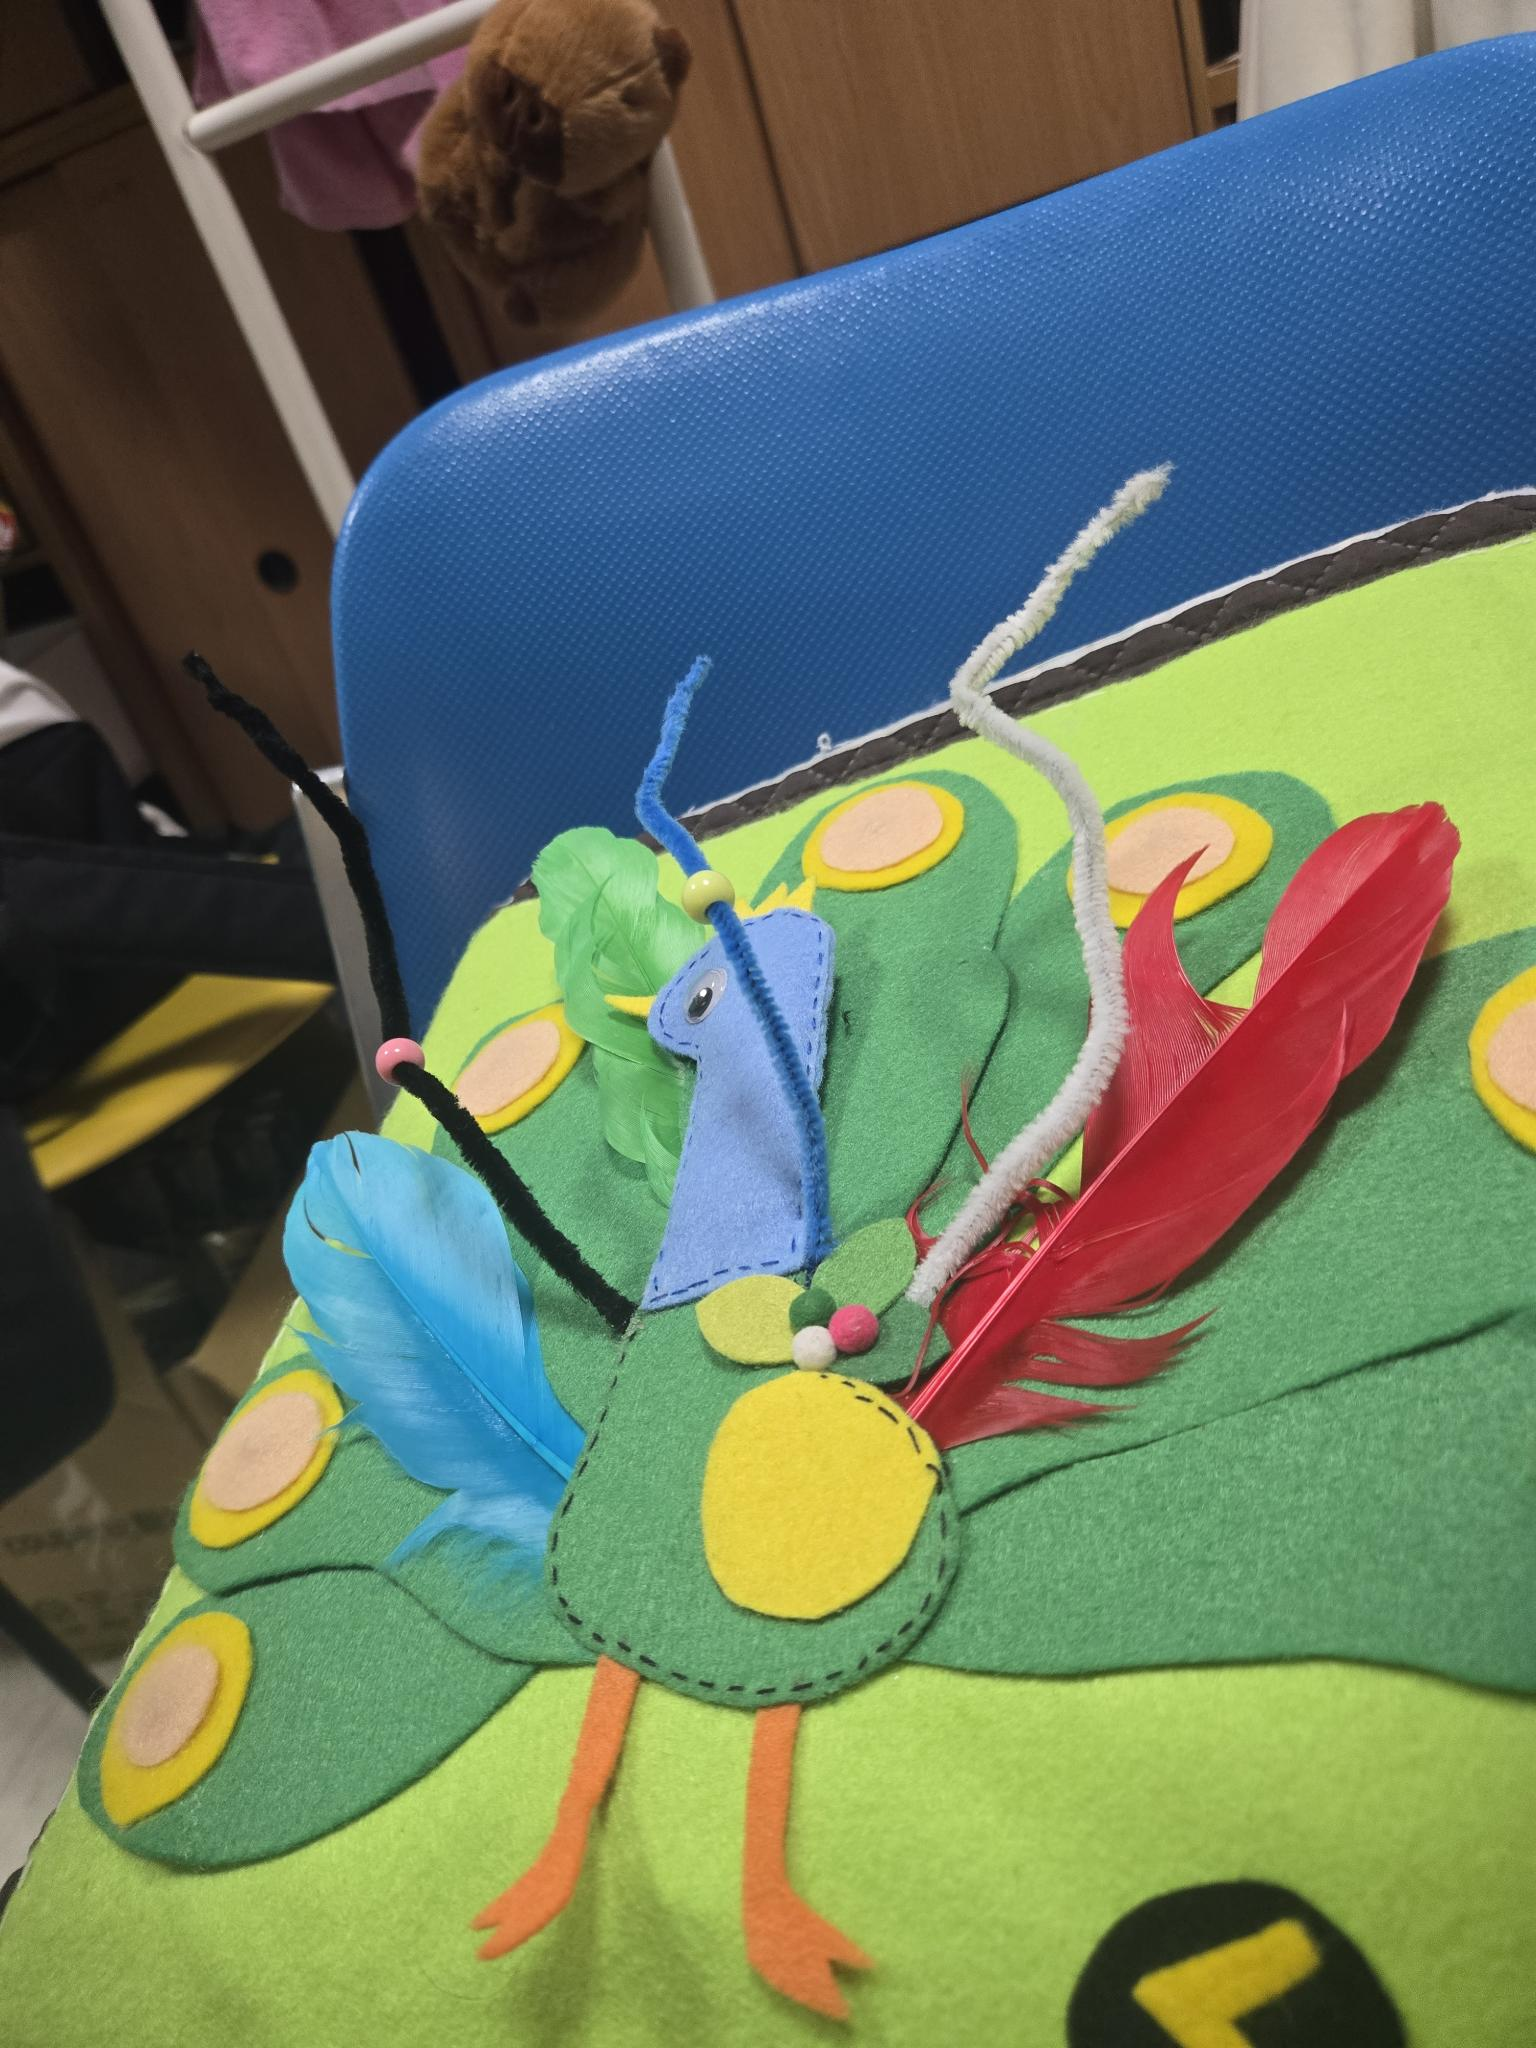bead: (655, 851, 750, 922), (353, 1011, 436, 1092)
